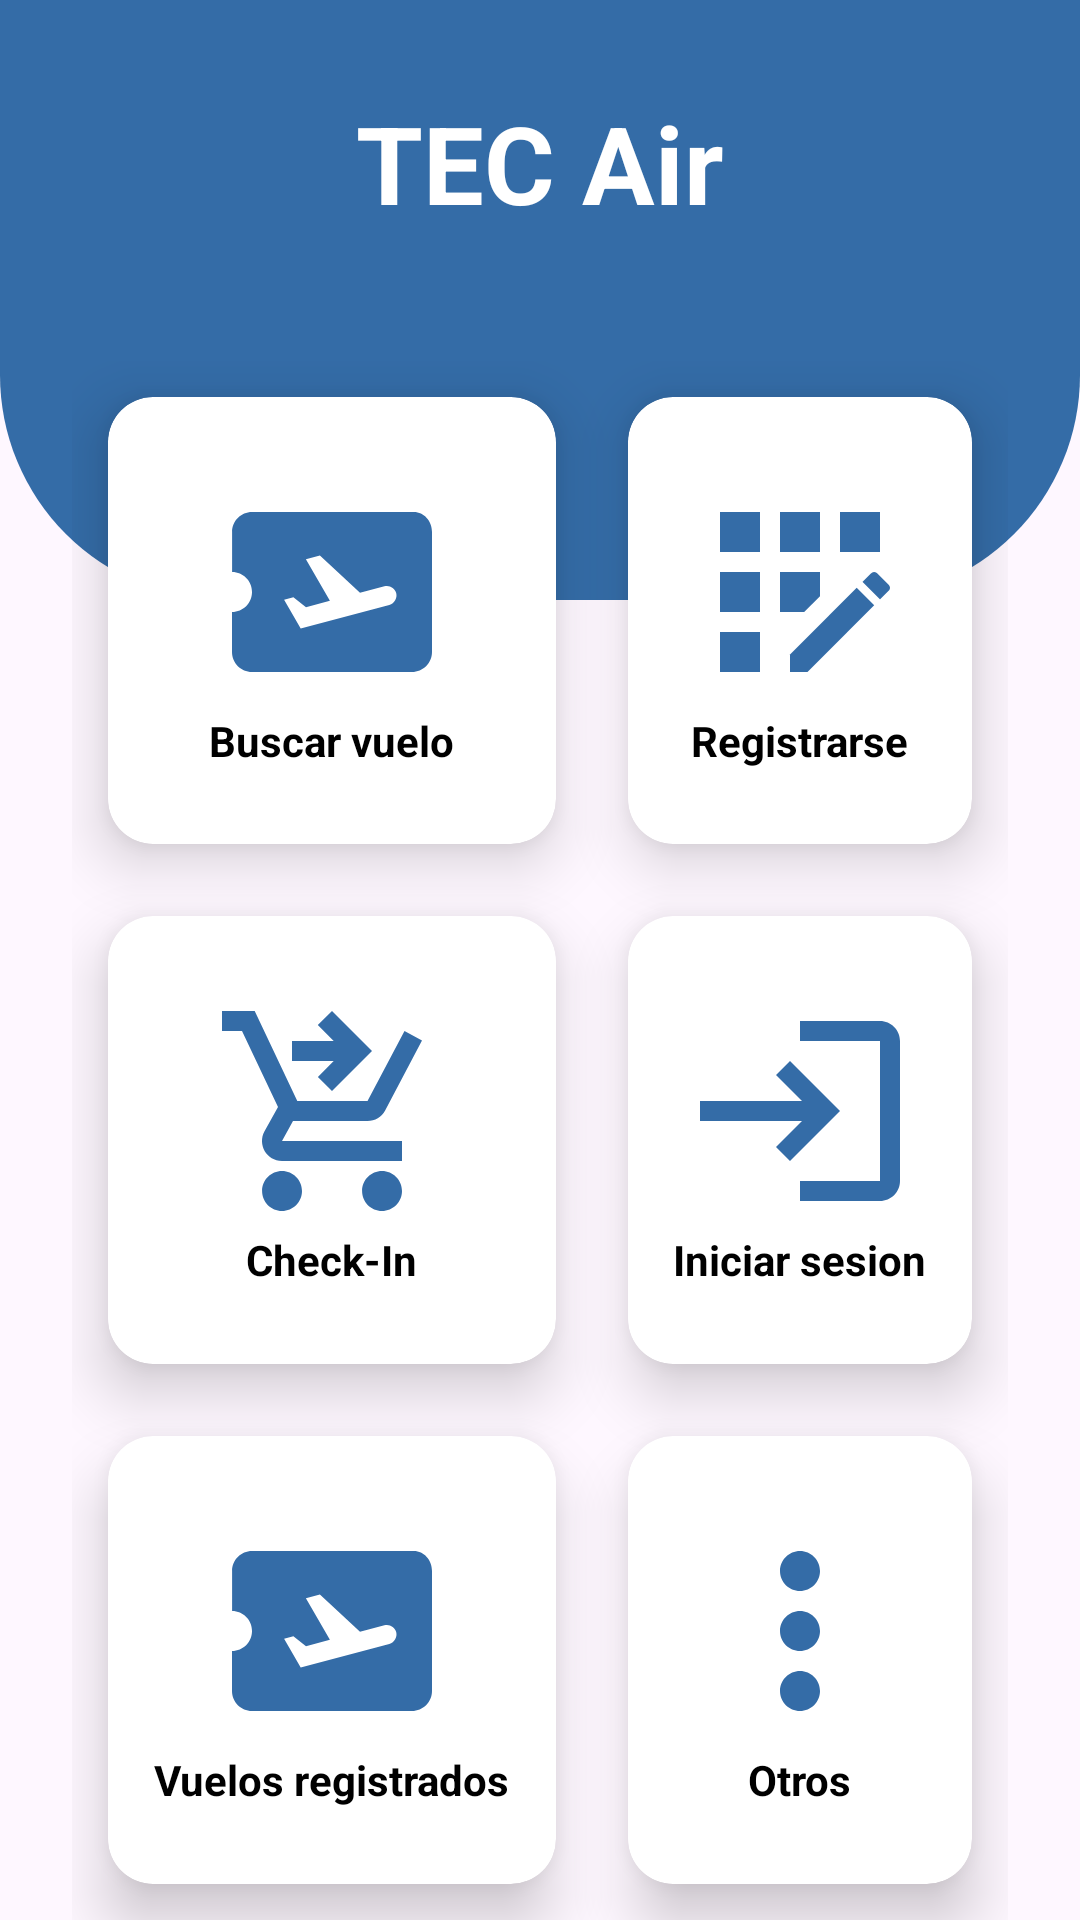

Point at icon controls on the screen. Image size 1080*1920, points as (x=x, y=y).
airplane ticket: (x=332, y=592), (x=332, y=1631)
more vert: (x=800, y=1631)
shopping cart checkout: (x=322, y=1111)
